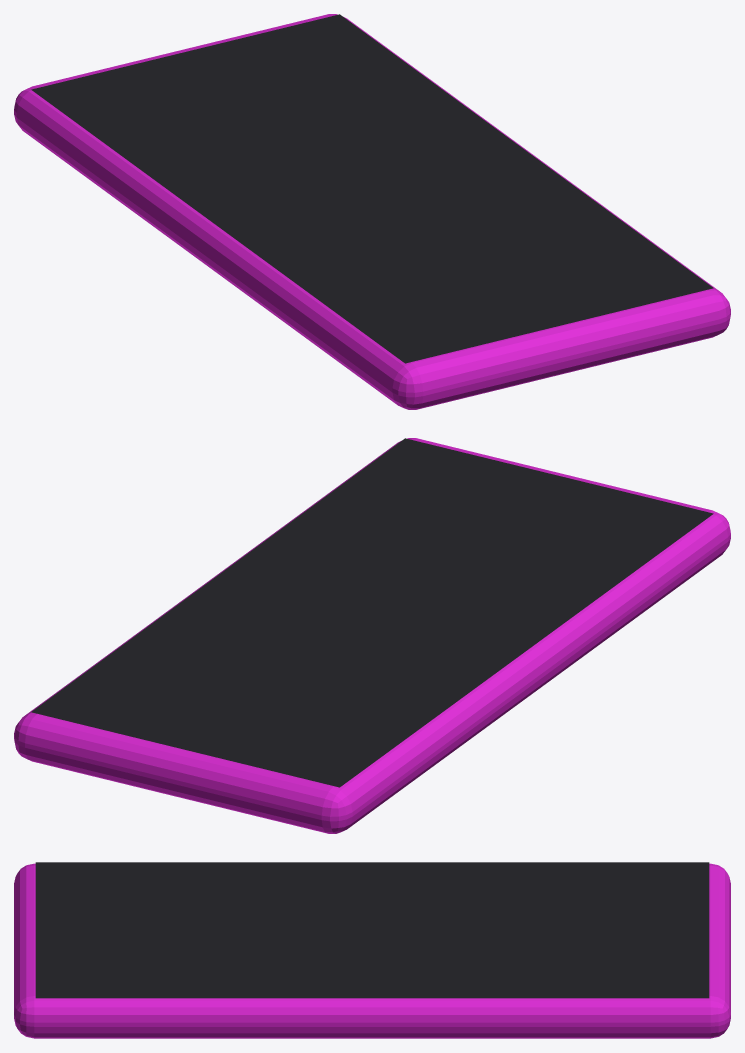
The model's file is oppo-a-model-359-mid-range-2026.glb.
3 views of the same model, one above another, from view 1: azimuth 30°, elevation 25°; view 2: azimuth 150°, elevation 25°; view 3: azimuth 270°, elevation 25° (orthographic). The views are drawn at different scales.
Visible parts, largest first — view 1: Phone_Screen, Phone_Body; view 2: Phone_Screen, Phone_Body; view 3: Phone_Screen, Phone_Body.
Boxes of the visible parts, x1,y1,x2,y2 form: Phone_Screen: (31,14,713,363); Phone_Body: (14,14,730,409); Phone_Screen: (31,438,713,787); Phone_Body: (14,438,730,833); Phone_Screen: (35,862,709,998); Phone_Body: (14,863,730,1038).
Bounding box in the file's own units: 0.0754 × 0.0098 × 0.1549.
